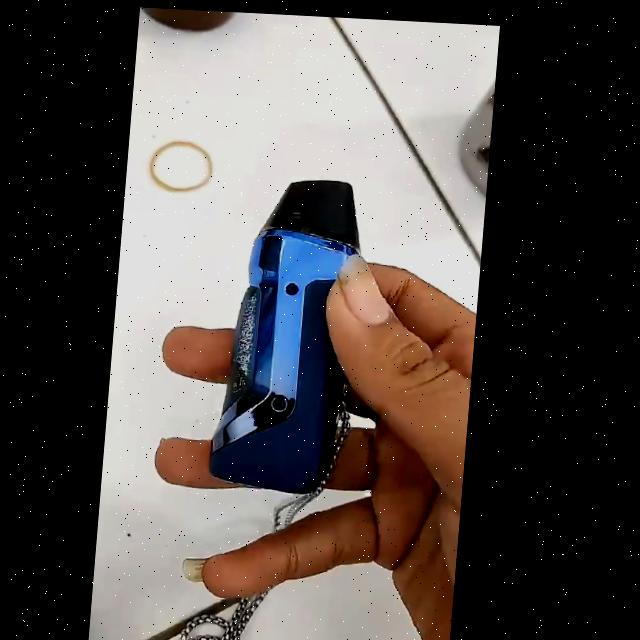vape: (217, 171, 370, 491)
